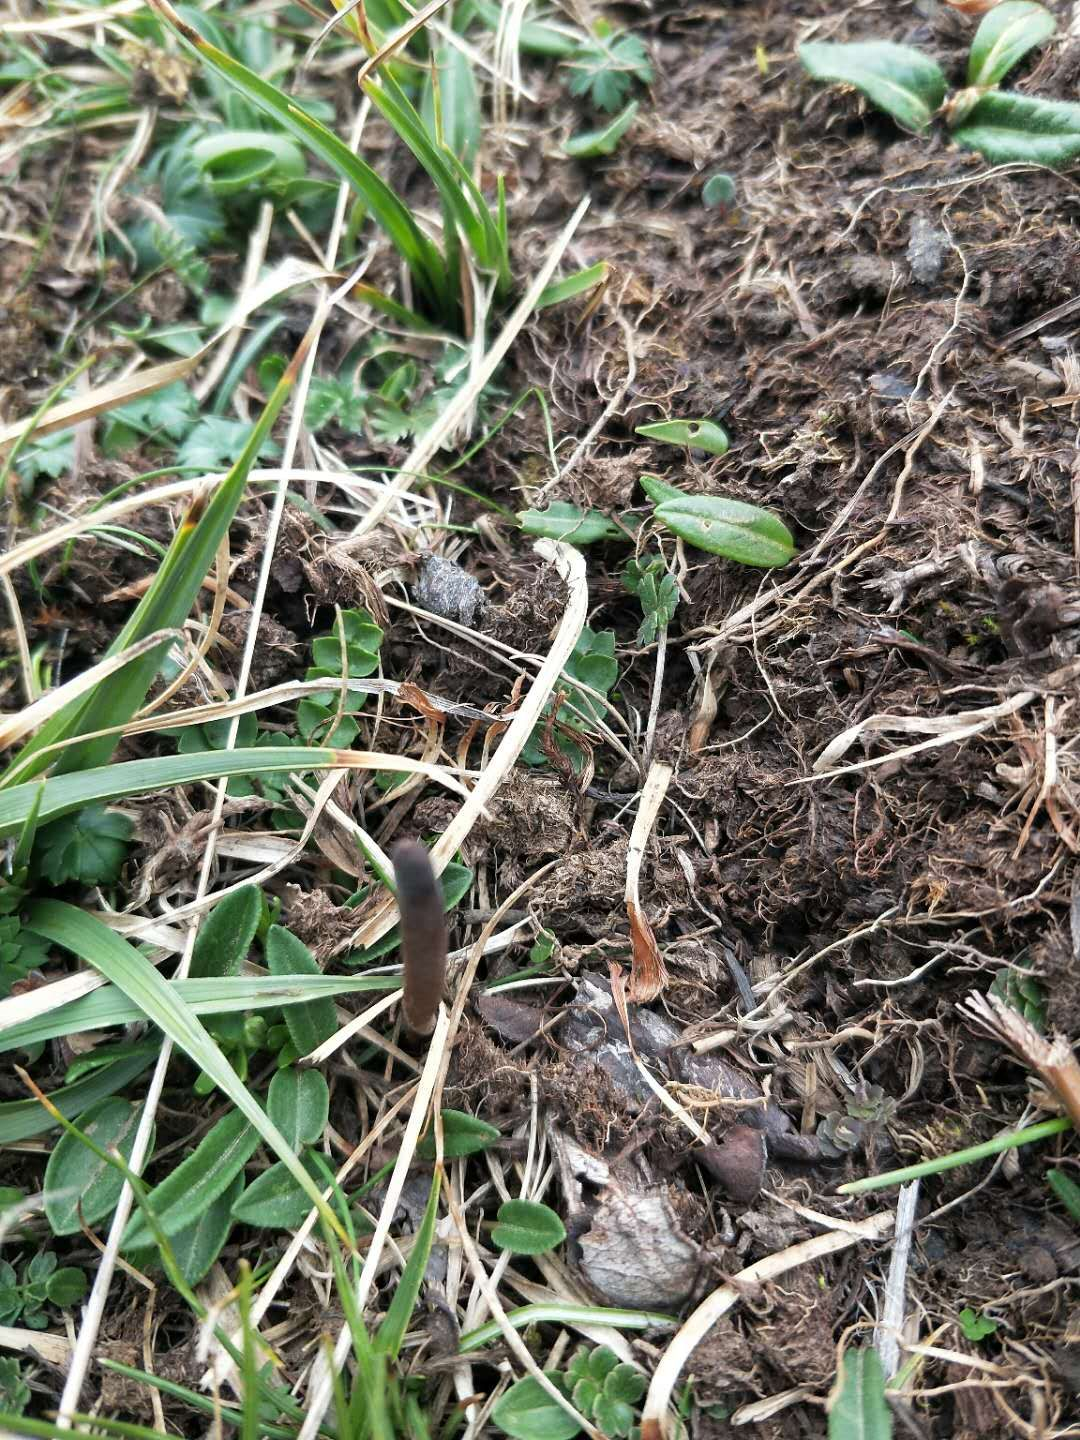cpf: (380, 836, 449, 1035)
